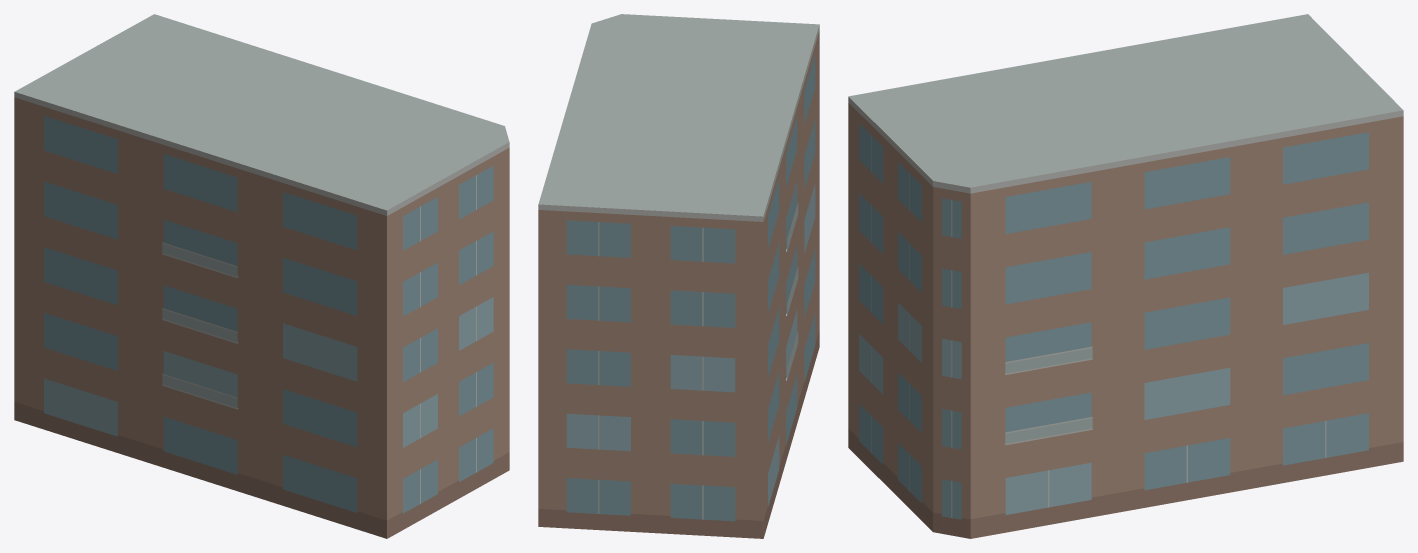
The model's file is survey-upis-32704638.glb.
The picture shows the model from 3 angles, left to right: view 1: azimuth 30°, elevation 25°; view 2: azimuth 150°, elevation 25°; view 3: azimuth 270°, elevation 25°; orthographic projection. The views are drawn at different scales.
Parts seen in each view (by area): view 1: survey-upis-32704638.tmp; view 2: survey-upis-32704638.tmp; view 3: survey-upis-32704638.tmp.
Part boxes in pixels (x1,y1,x2,y2): survey-upis-32704638.tmp: (14, 14, 509, 538); survey-upis-32704638.tmp: (538, 14, 819, 538); survey-upis-32704638.tmp: (848, 14, 1403, 538).
Bounding box in the file's own units: 15.44 × 14.55 × 20.87.
